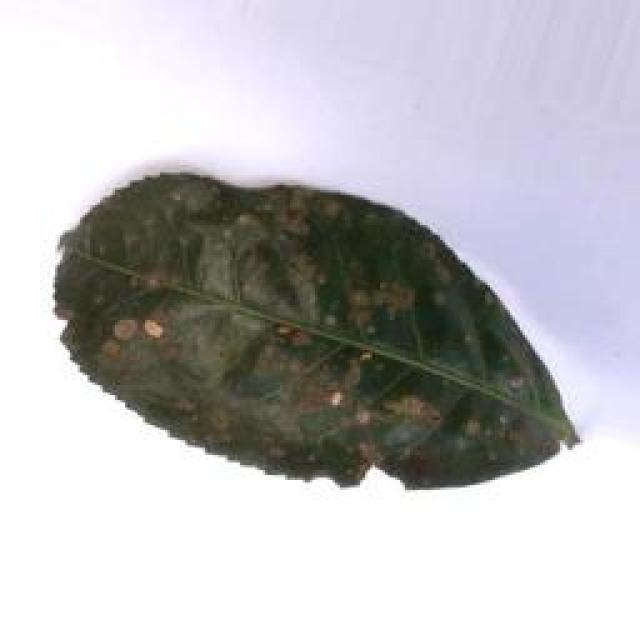Algal Leaf Spot: (35, 166, 583, 493)
